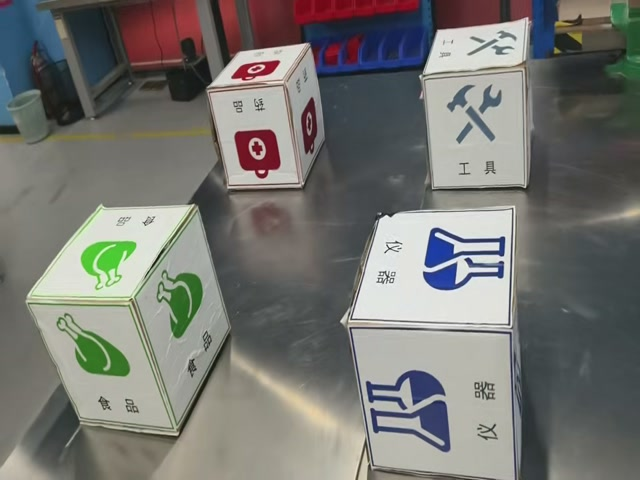Cube_food: (27, 205, 199, 303)
Cube_ins: (349, 207, 515, 324)
Cube_medicine: (207, 44, 311, 99)
Cube_tool: (422, 19, 528, 86)
